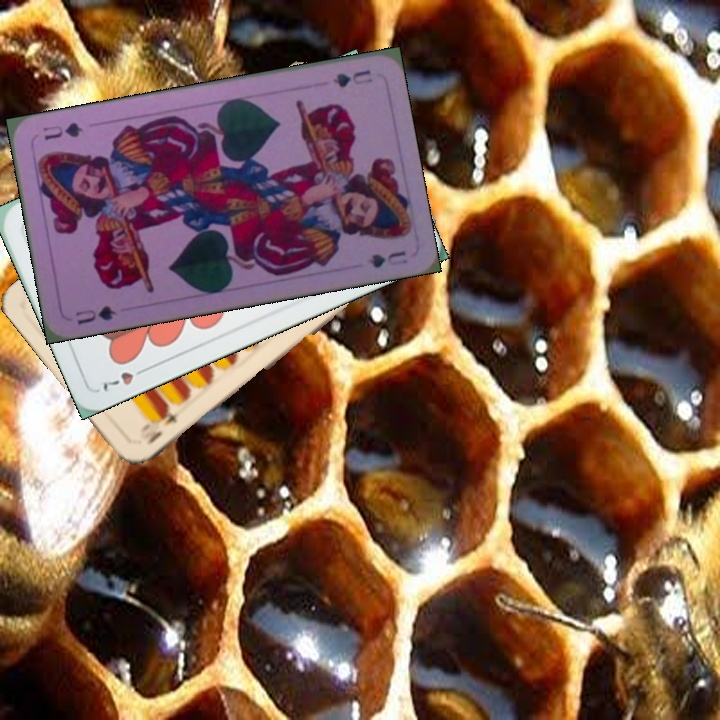E10: (143, 403, 185, 448)
GU: (71, 301, 119, 327), (329, 65, 375, 90)
H7: (97, 362, 152, 395)
